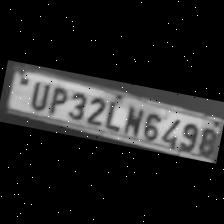2: (82, 92, 108, 128)
3: (64, 87, 90, 123)
4: (158, 113, 182, 148)
6: (138, 107, 164, 141)
8: (195, 120, 220, 158)
9: (173, 116, 201, 153)
H: (118, 101, 144, 137)
L: (101, 94, 125, 132)
P: (43, 82, 70, 116)
U: (24, 77, 52, 112)
